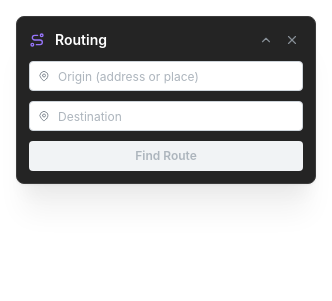
Test: RoutingPanel › shows no directions for a route that came without steps
Type "here" into the field with placeholder "Origin (address or place)".
click(166, 76); type("here")  # box [29,61,303,91]
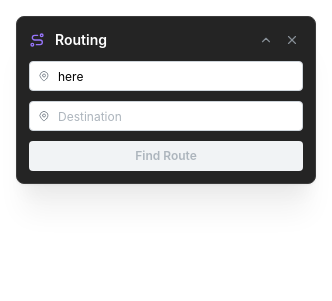
Type "there" into the field with placeholder "Destination".
click(166, 116); type("there")  # box [29,101,303,131]
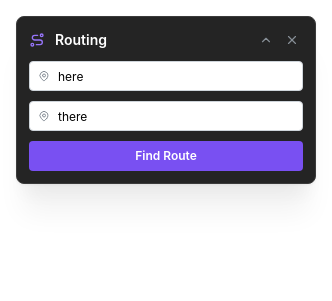
Click the button "Find Route".
click(166, 156)  # box [29,141,303,171]
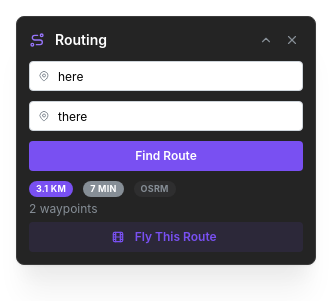
Expected: the button "Fly This Route" is shown, [29,222,303,252]
